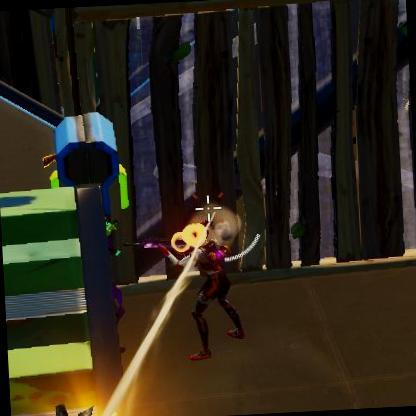person: (182, 227, 248, 357)
